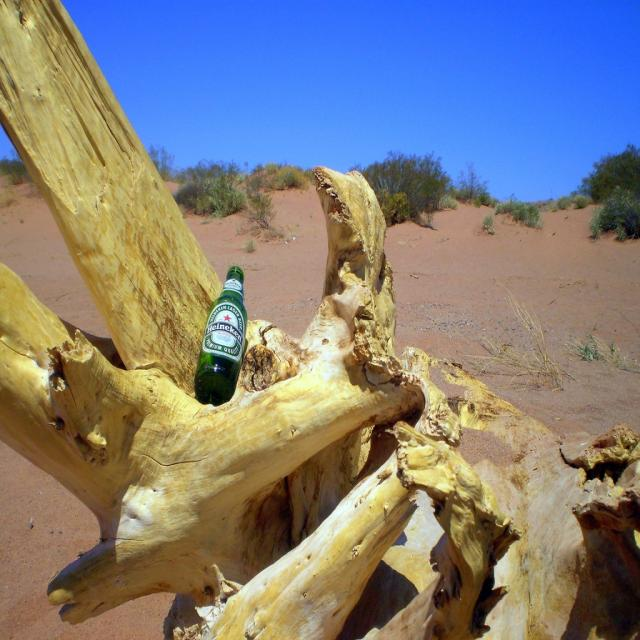heineken: (203, 303, 246, 361)
